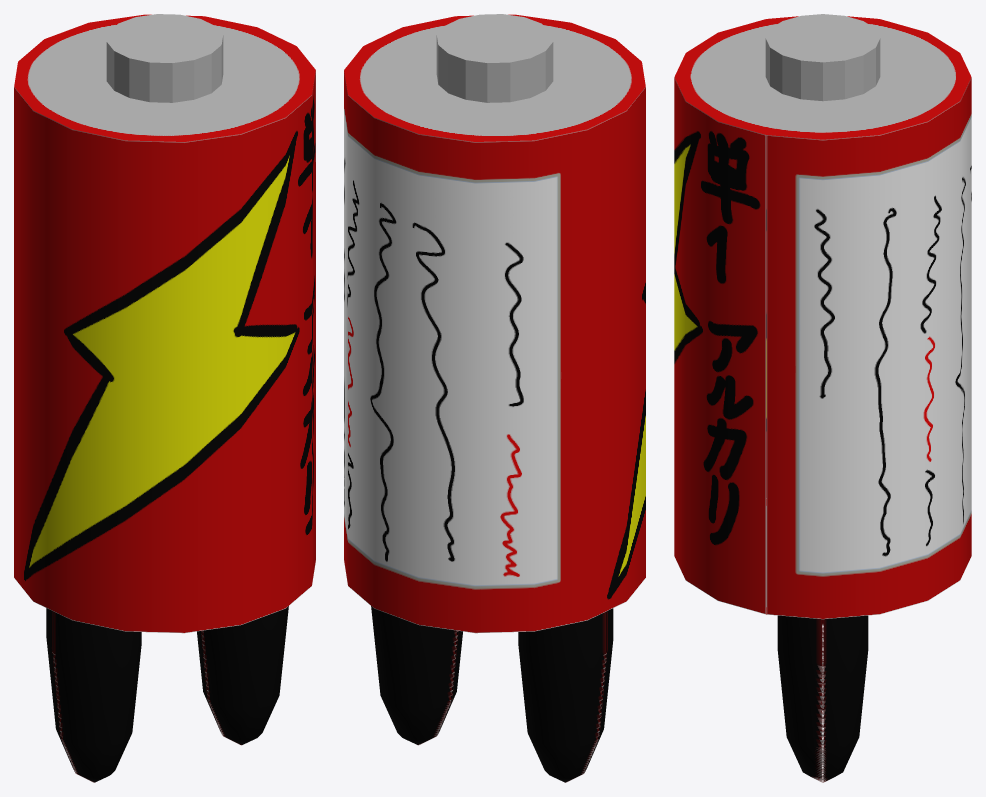
File: Player.fbx
3 renders of one model, left to right at view 1: azimuth 30°, elevation 25°; view 2: azimuth 150°, elevation 25°; view 3: azimuth 270°, elevation 25°, orthographic. The views are drawn at different scales.
Visible parts, largest first — view 1: Player_body, Player_LegRight, Player_LegLeft; view 2: Player_body, Player_LegRight, Player_LegLeft; view 3: Player_body, Player_LegLeft.
Boxes of the visible parts, bbox=[...] form: Player_body: bbox=[14, 14, 315, 633]; Player_LegRight: bbox=[46, 608, 141, 782]; Player_LegLeft: bbox=[197, 606, 288, 745]; Player_body: bbox=[344, 14, 645, 633]; Player_LegRight: bbox=[518, 608, 613, 782]; Player_LegLeft: bbox=[371, 606, 462, 745]; Player_body: bbox=[674, 14, 971, 619]; Player_LegLeft: bbox=[777, 615, 868, 782].
Size of the model in its own units: 2 by 5.27 by 2.
